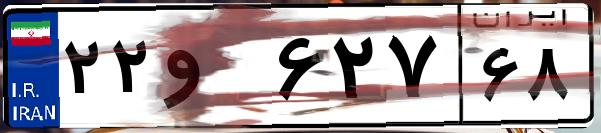2: (330, 28, 385, 110), (57, 26, 110, 100), (110, 28, 158, 98)
6: (270, 28, 330, 110), (475, 38, 525, 113)
7: (385, 28, 445, 110)
8: (525, 38, 570, 115)
و: (158, 20, 270, 120)
